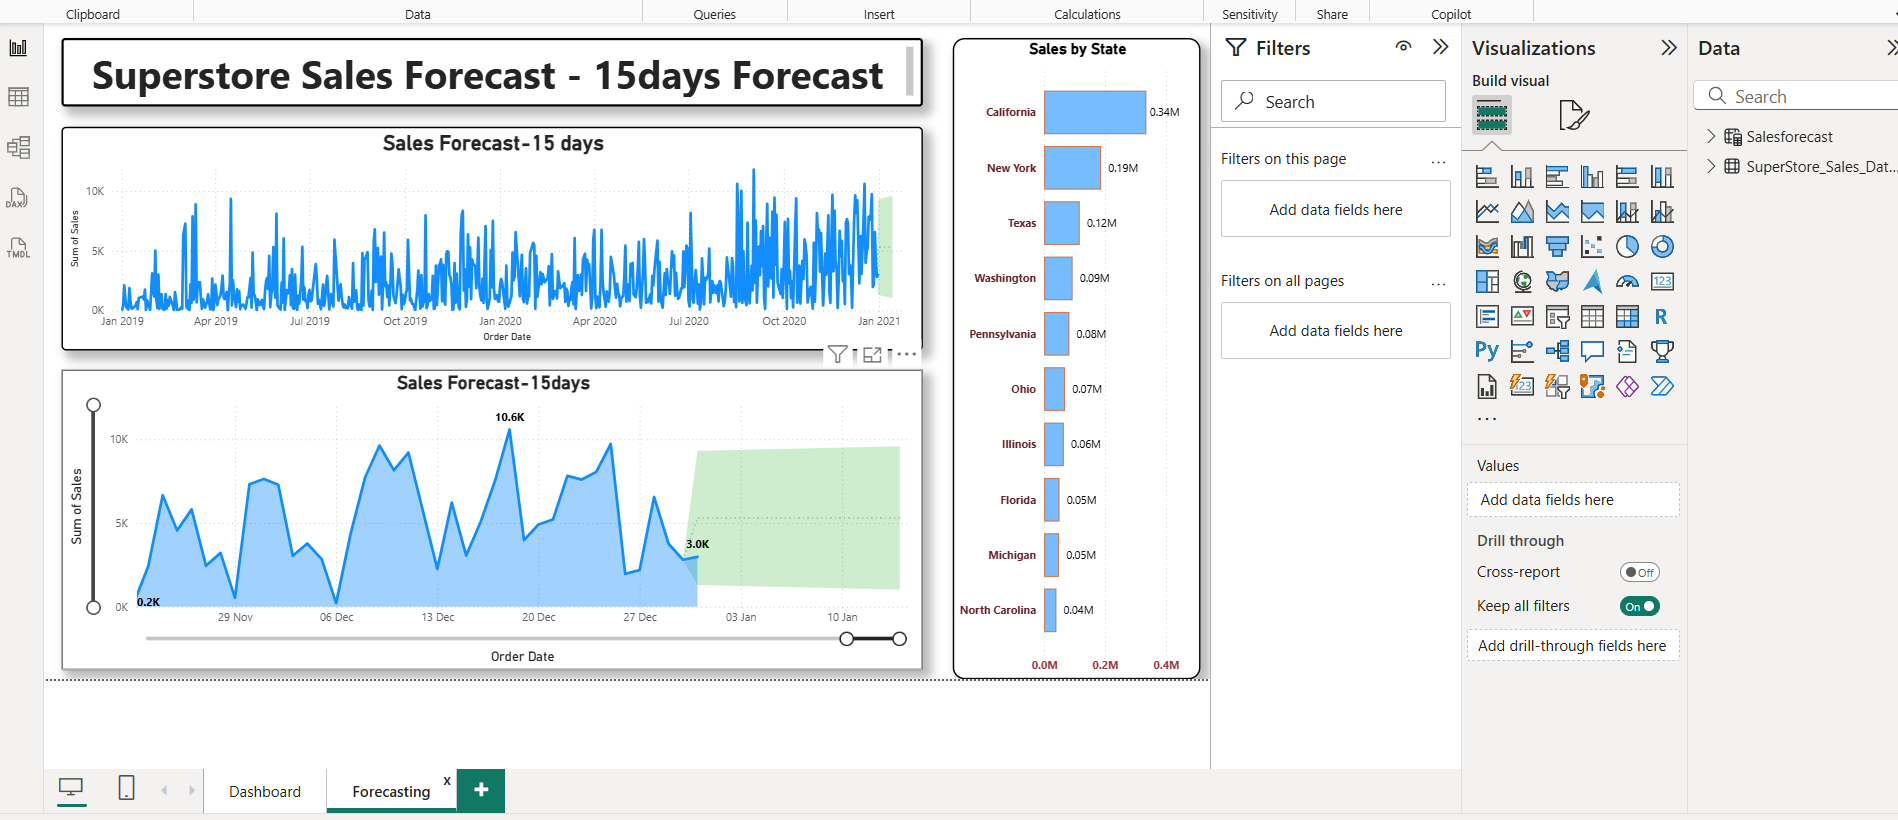

Layout of this report page (visuals, bound fields, positions):
{"tool":"powerbi","page":{"name":"Forecasting","canvas":[1280,720],"ordinal":1},"visuals":[{"type":"lineChart","title":"Sales Forecast-15 days","fields":{"Y":["Sum(SuperStore_Sales_Dataset.Sales)"],"Category":["SuperStore_Sales_Dataset.Order Date"]},"box":[19.2,113.9,945.5,245.6],"z":0},{"type":"lineChart","title":"Sales Forecast-15days","fields":{"Y":["Sum(SuperStore_Sales_Dataset.Sales)"],"Category":["SuperStore_Sales_Dataset.Order Date"]},"box":[19.2,380.1,945.5,330.7],"z":1000},{"type":"textbox","box":[19.2,16.5,945.5,75.5],"z":2000},{"type":"clusteredBarChart","title":"Sales by State","fields":{"Category":["SuperStore_Sales_Dataset.State"],"Y":["Sum(SuperStore_Sales_Dataset.Sales)"]},"box":[997.6,16.5,271.7,704],"z":3000}]}

Visuals, with their boxes on the page's 1280x720 design canvas (x1, y1, x2, y2). These are canvas units, not pixel positions in the 1898x820 screenshot, which may show the page scaled, cropped or inside an application window:
"Sales Forecast-15 days" lineChart: [19, 114, 965, 360]
"Sales Forecast-15days" lineChart: [19, 380, 965, 711]
textbox: [19, 16, 965, 92]
"Sales by State" clusteredBarChart: [998, 16, 1269, 720]
